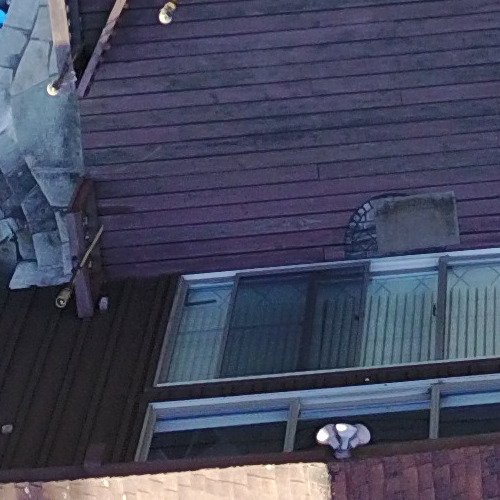porch: (37, 1, 498, 336)
